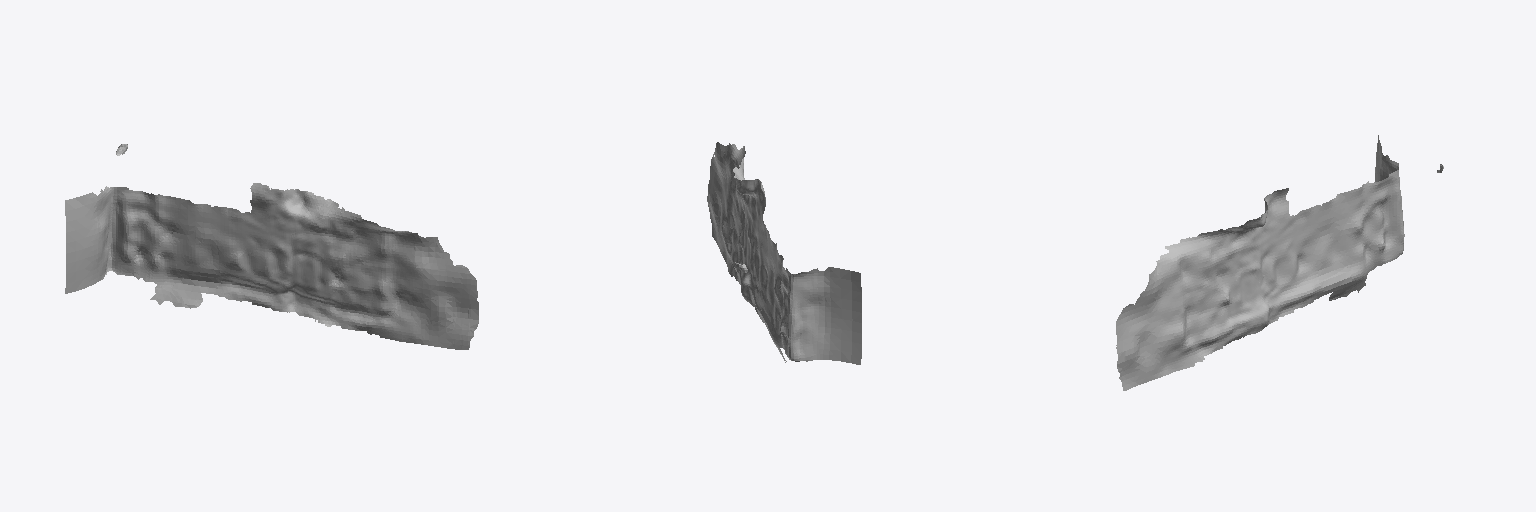
Rendered from modeloriginal.obj.
3 views of the same model, side by side, from view 1: azimuth 30°, elevation 25°; view 2: azimuth 150°, elevation 25°; view 3: azimuth 270°, elevation 25° (orthographic).
Size of the model in its own units: 2.18 by 1.03 by 2.18.